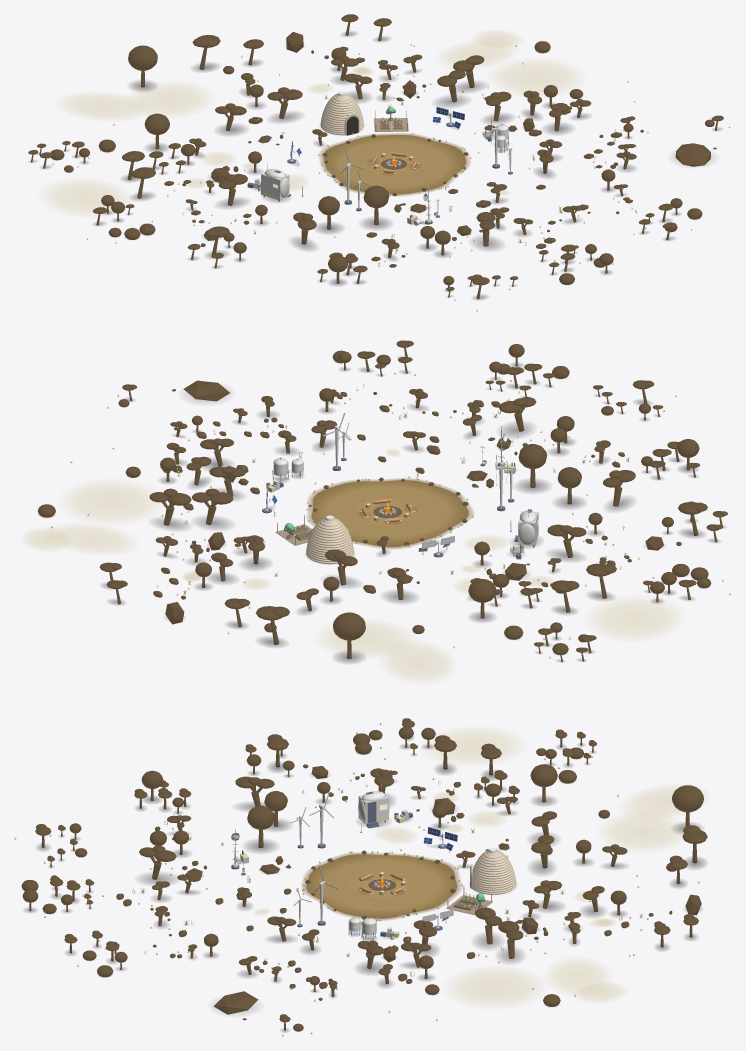
3 views of the same model, one above another, from view 1: azimuth 30°, elevation 25°; view 2: azimuth 150°, elevation 25°; view 3: azimuth 270°, elevation 25° (orthographic). The views are drawn at different scales.
Size of what is drawn, in the model's own units: 112 by 9.93 by 107.
Materials: 80 (5 with a texture image).
